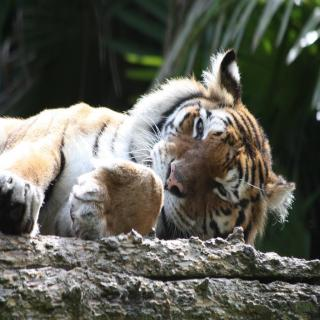Tiger: (0, 45, 296, 249)
